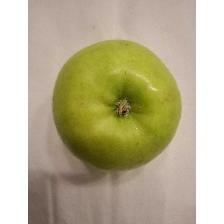Apfel: (51, 39, 183, 173)
